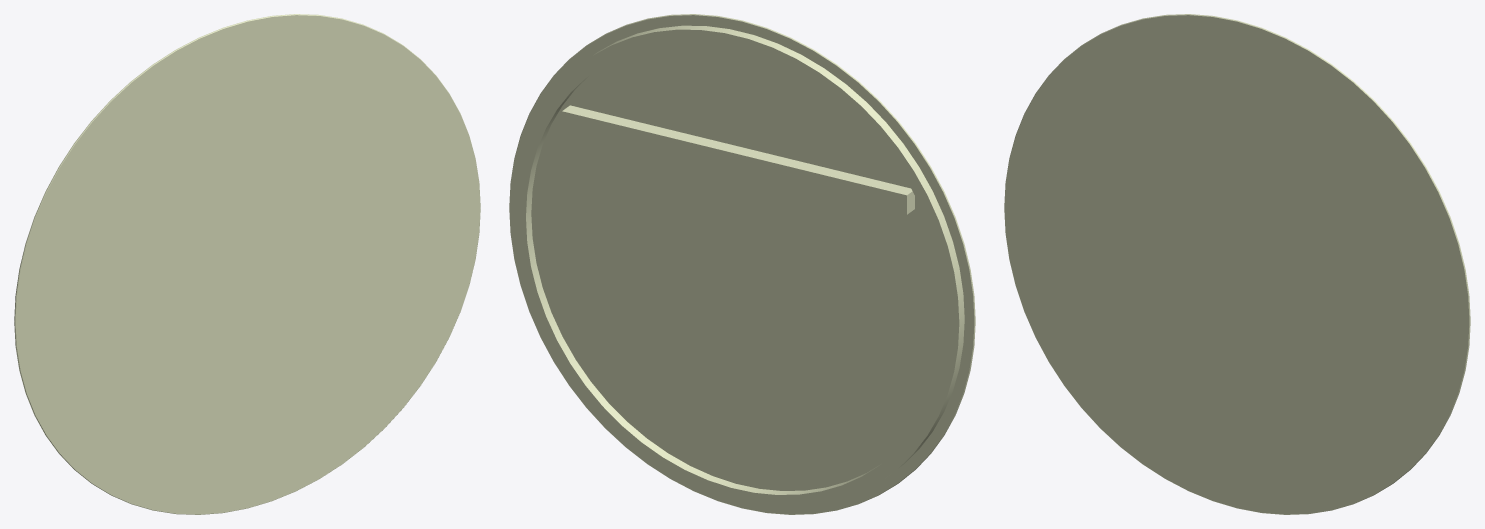
File: Espejo moon 1000.glb
3 views of the same model, side by side, from view 1: azimuth 30°, elevation 25°; view 2: azimuth 150°, elevation 25°; view 3: azimuth 330°, elevation 25° (orthographic).
Parts seen in each view (by area): view 1: Espejo Moon 1000.002; view 2: Espejo Moon 1000.002; view 3: Espejo Moon 1000.002.
Part boxes in pixels (x1,y1,x2,y2): Espejo Moon 1000.002: (14,14,480,514); Espejo Moon 1000.002: (509,14,975,514); Espejo Moon 1000.002: (1004,14,1470,514).
Bounding box in the file's own units: 1 × 1 × 0.034.
